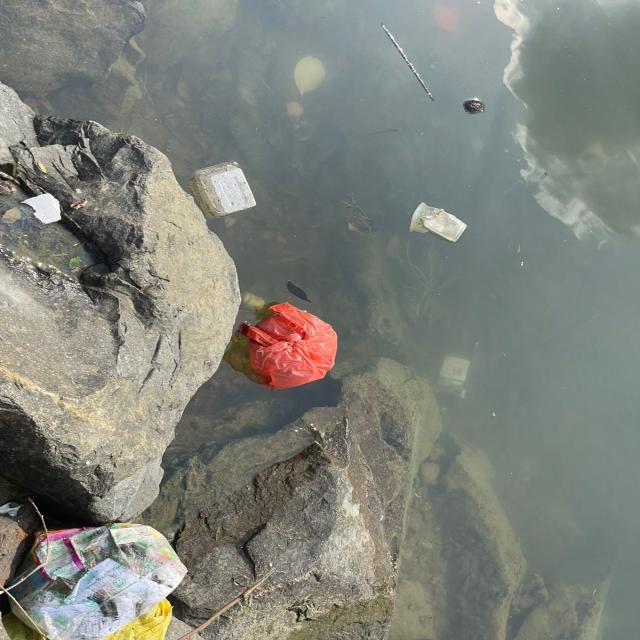Bungkus Makanan: (186, 158, 264, 222)
Bungkus Minuman: (407, 201, 470, 248)
Kantong Plastik: (242, 299, 343, 394)
